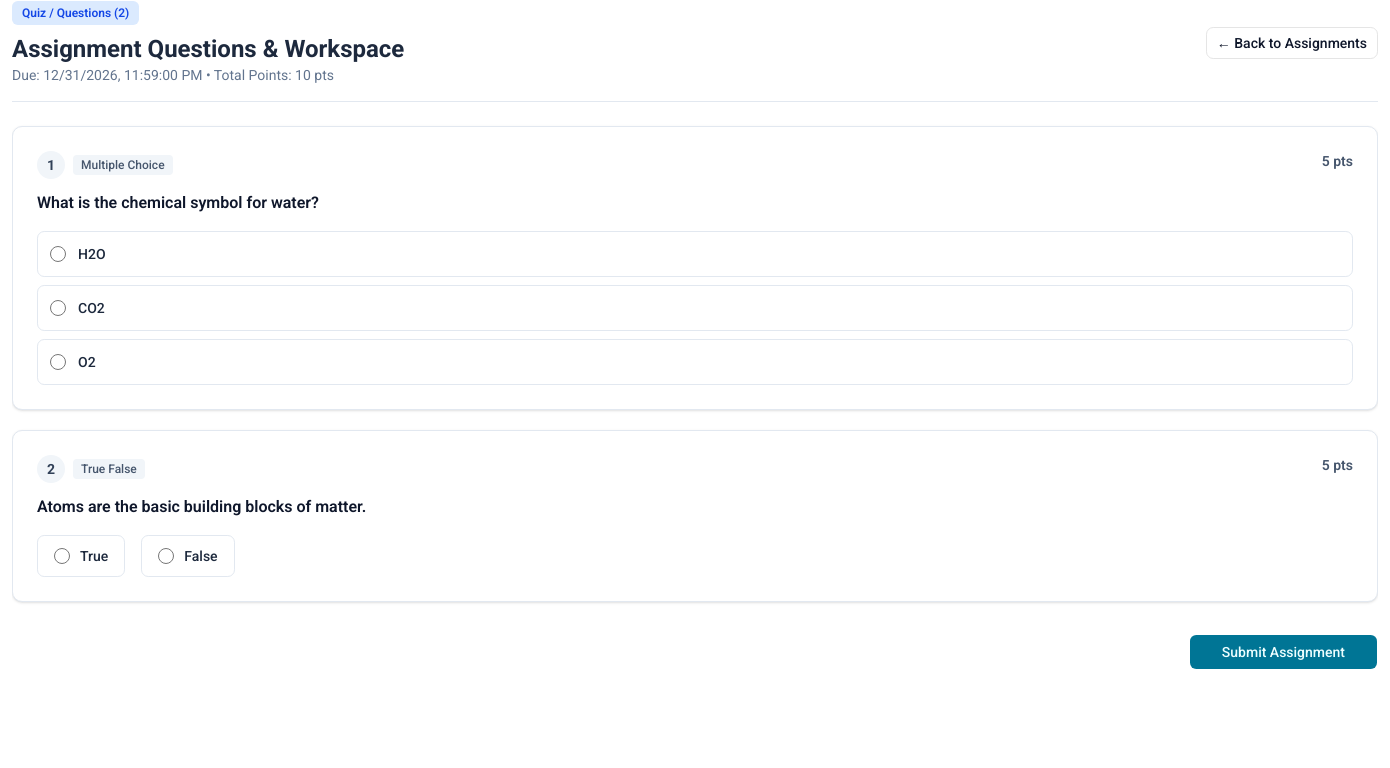
Test: StudentAssignmentView › submits answers and displays instant auto-grading feedback
The width and height of the screenshot is (1390, 768).
Step 1. Click the radio button labelled "H2O" → (58, 254), box [50,246,66,262]
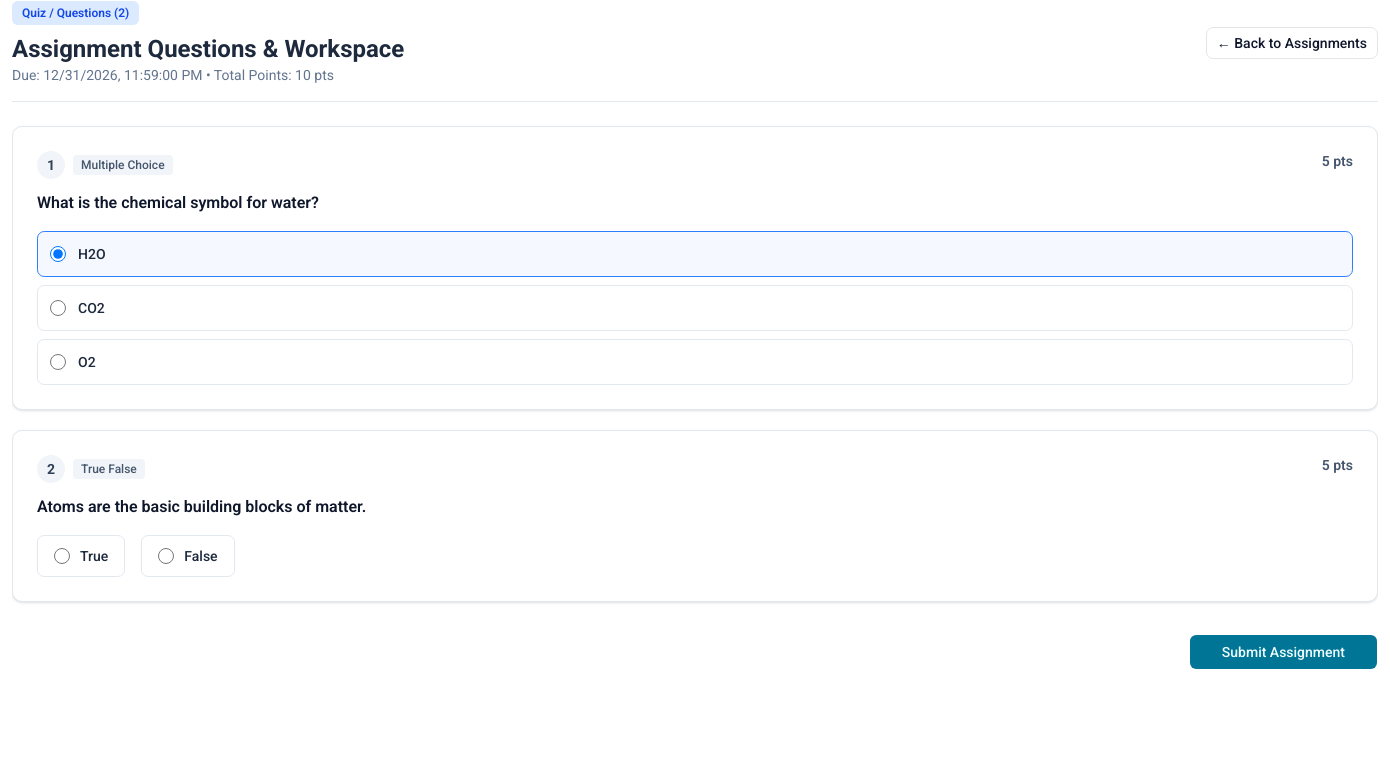
Step 2. Click the radio button labelled "True" → (62, 556), box [54,548,70,564]
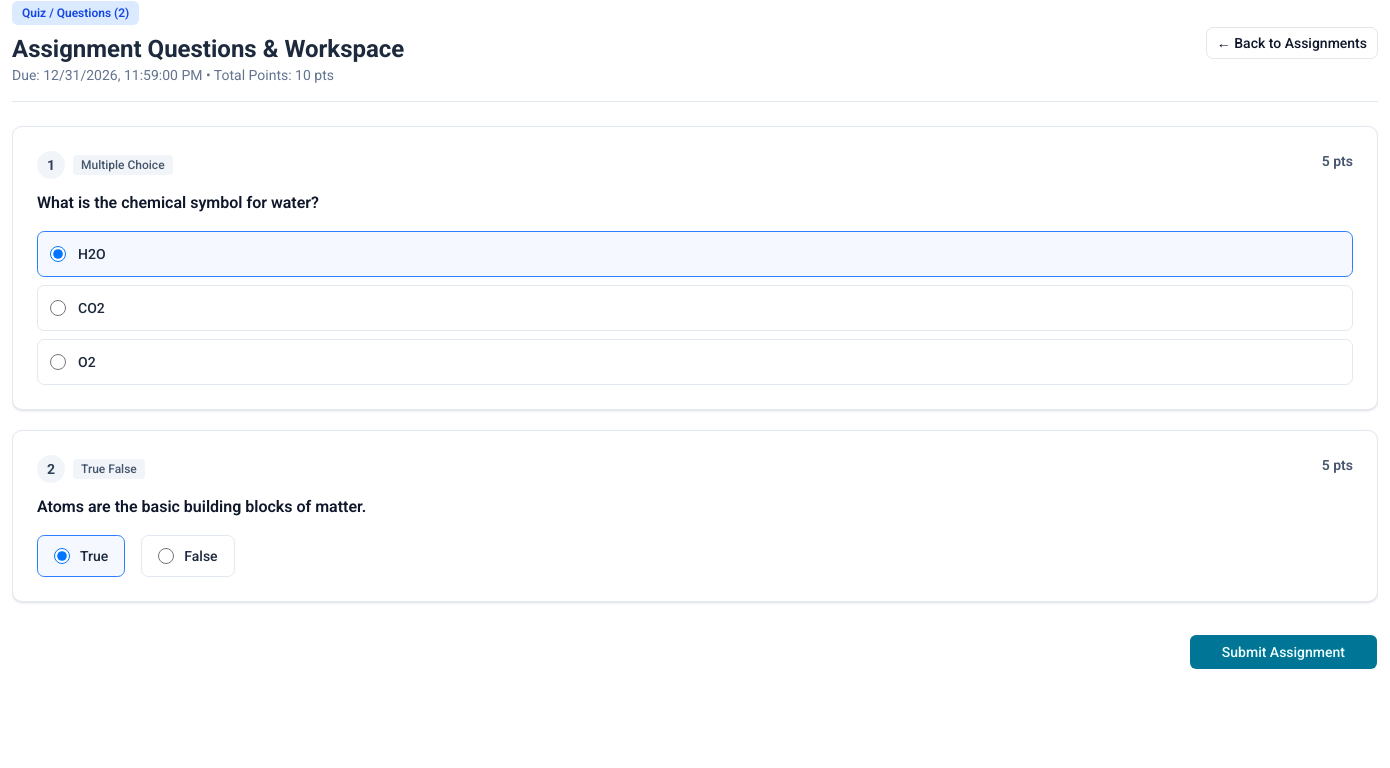
Step 3. Click the button "Submit Assignment" → (1283, 652), box [1189,634,1378,670]
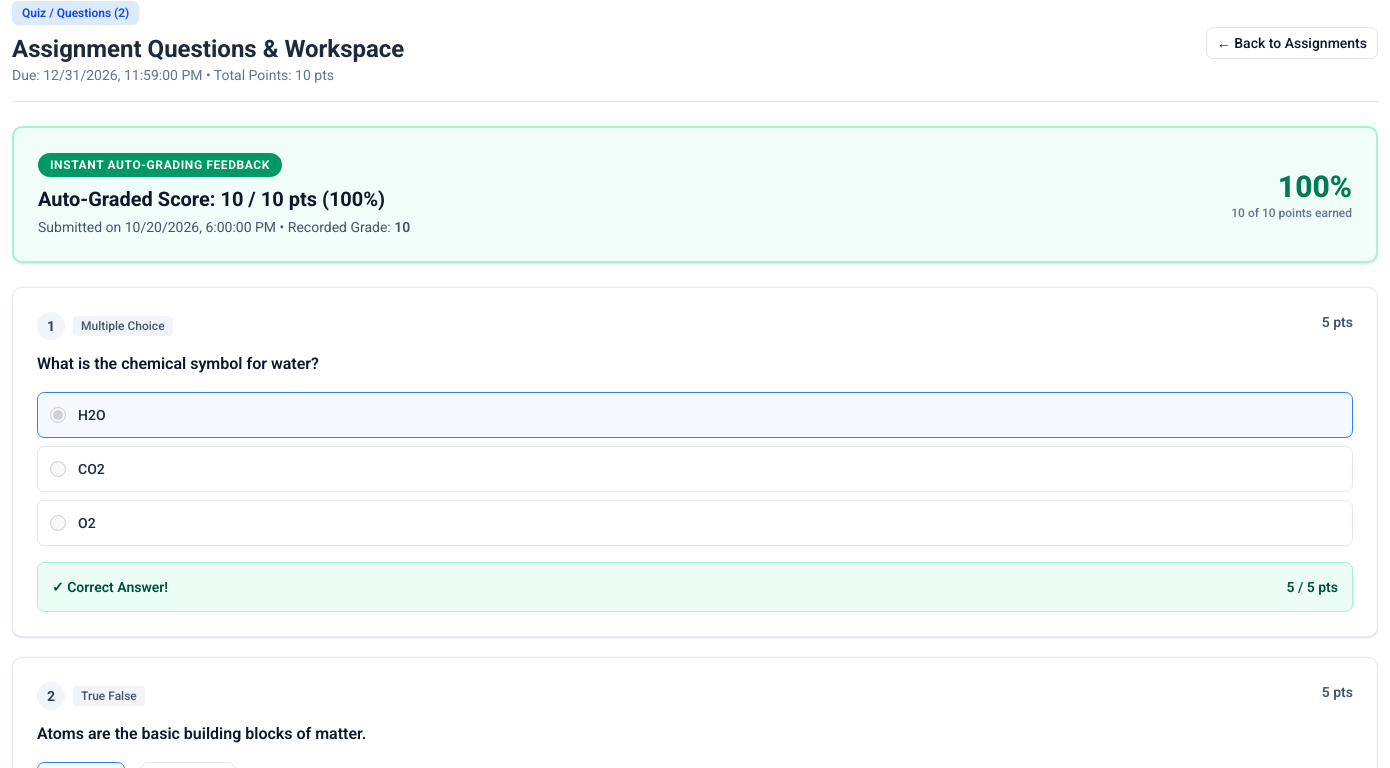
Result: the text "Instant Auto-Grading Feedback" is shown at [38,153,282,177]
Result: the heading "Auto-Graded Score: 10 / 10 pts (100%)" is shown at [38,185,410,213]
